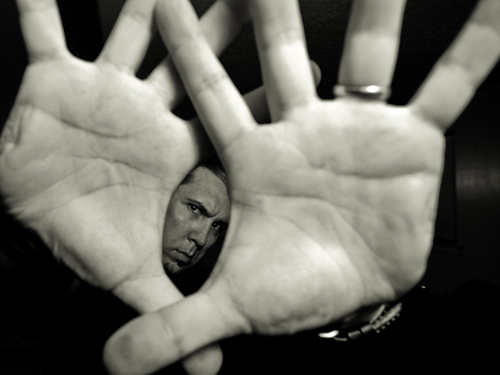palm: (253, 132, 414, 315), (22, 72, 168, 258)
